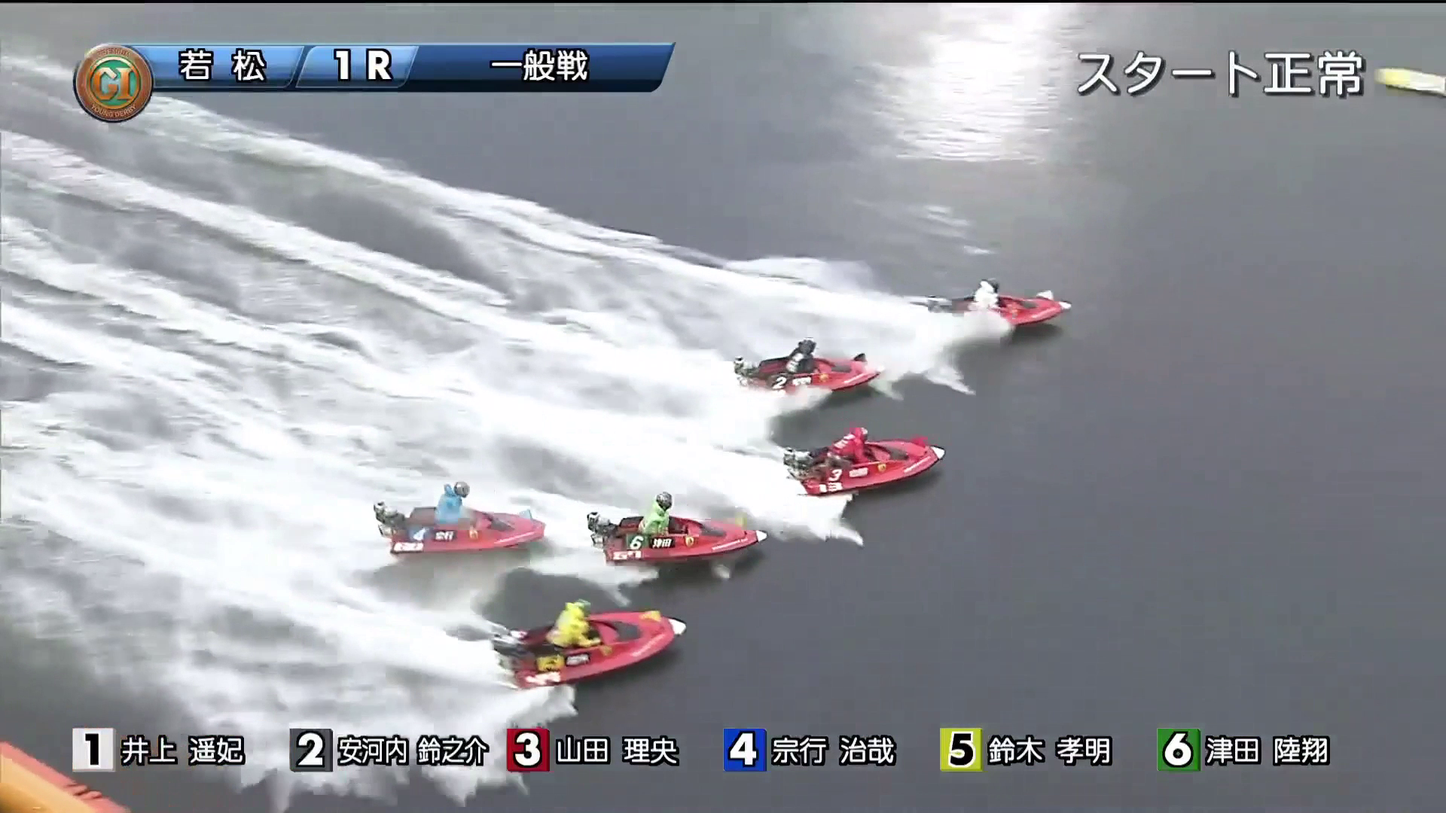１号艇: (956, 283, 1094, 336)
２号艇: (746, 340, 874, 400)
３号艇: (813, 435, 954, 482)
４号艇: (616, 502, 736, 567)
５号艇: (390, 506, 513, 561)
６号艇: (560, 624, 659, 680)
